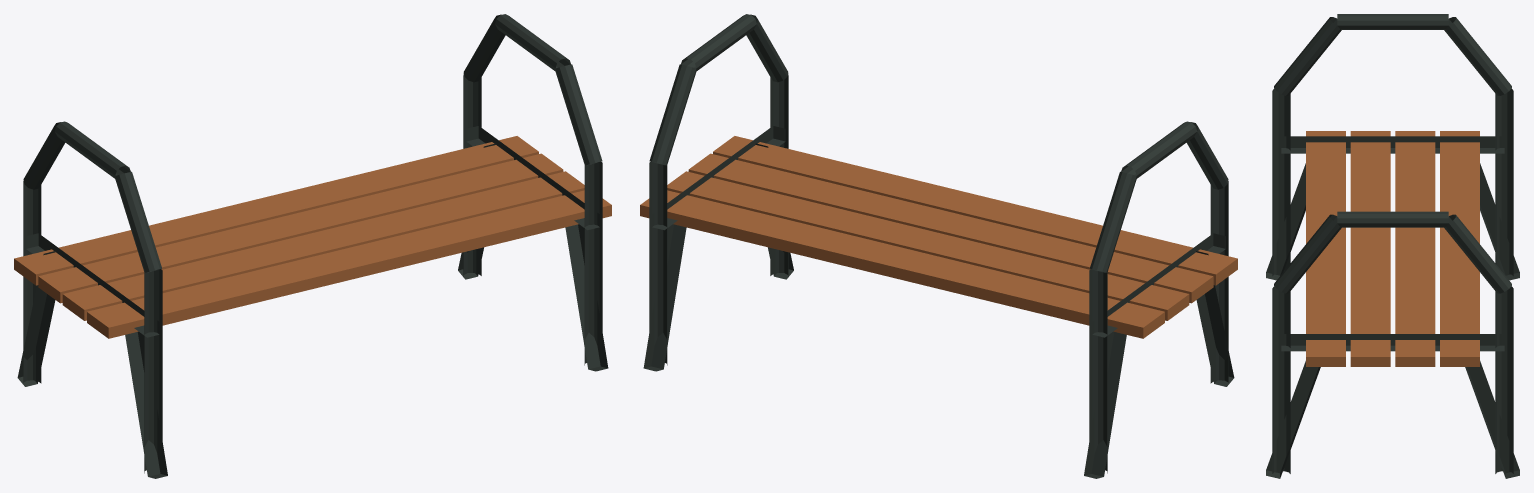
3 views of the same model, side by side, from view 1: azimuth 30°, elevation 25°; view 2: azimuth 150°, elevation 25°; view 3: azimuth 270°, elevation 25° (orthographic). The views are drawn at different scales.
Parts seen in each view (by area): view 1: SW-L506; view 2: SW-L506; view 3: SW-L506.
Boxes of the visible parts, box(x1,y1,x2,y2) form: SW-L506: box(14, 14, 611, 478); SW-L506: box(640, 14, 1237, 478); SW-L506: box(1266, 14, 1519, 478).
Size of the model in its own units: 1.6 by 0.87 by 0.76.
